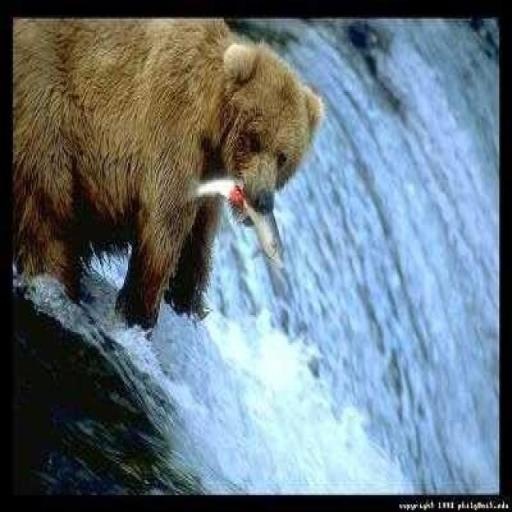Bear: (12, 15, 324, 330)
